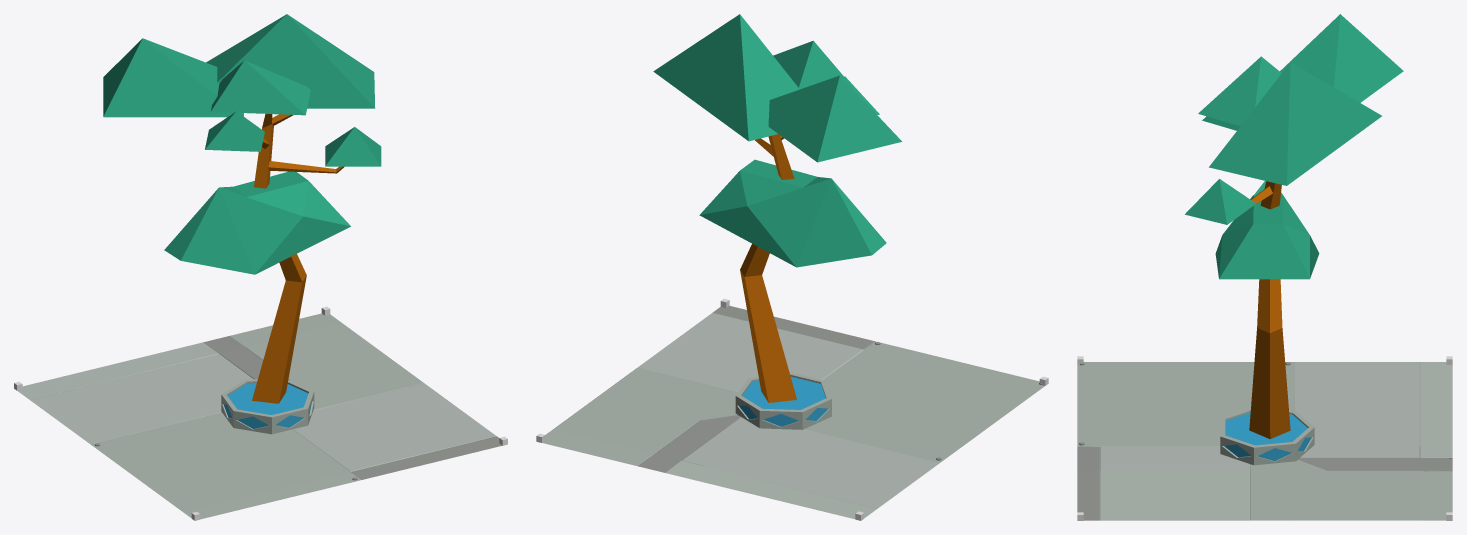
3 views of the same model, side by side, from view 1: azimuth 30°, elevation 25°; view 2: azimuth 150°, elevation 25°; view 3: azimuth 270°, elevation 25° (orthographic). The views are drawn at different scales.
Visible parts, largest first — view 1: Scifi_Panel_04_Plaza014_group4.029, tree11, Cylinder.001_Cylinder.002; view 2: Scifi_Panel_04_Plaza014_group4.029, tree11, Cylinder.001_Cylinder.002; view 3: Scifi_Panel_04_Plaza014_group4.029, tree11, Cylinder.001_Cylinder.002.
Part boxes in pixels (box(x1,y1,x2,y2)): Scifi_Panel_04_Plaza014_group4.029: box(17, 313, 502, 519); tree11: box(103, 14, 381, 403); Cylinder.001_Cylinder.002: box(221, 379, 314, 434); Scifi_Panel_04_Plaza014_group4.029: box(542, 305, 1044, 519); tree11: box(653, 14, 902, 402); Cylinder.001_Cylinder.002: box(735, 372, 831, 429); Scifi_Panel_04_Plaza014_group4.029: box(1077, 362, 1452, 520); tree11: box(1185, 14, 1403, 438); Cylinder.001_Cylinder.002: box(1220, 408, 1314, 465).
Size of the model in its own units: 10 by 11.74 by 10.
